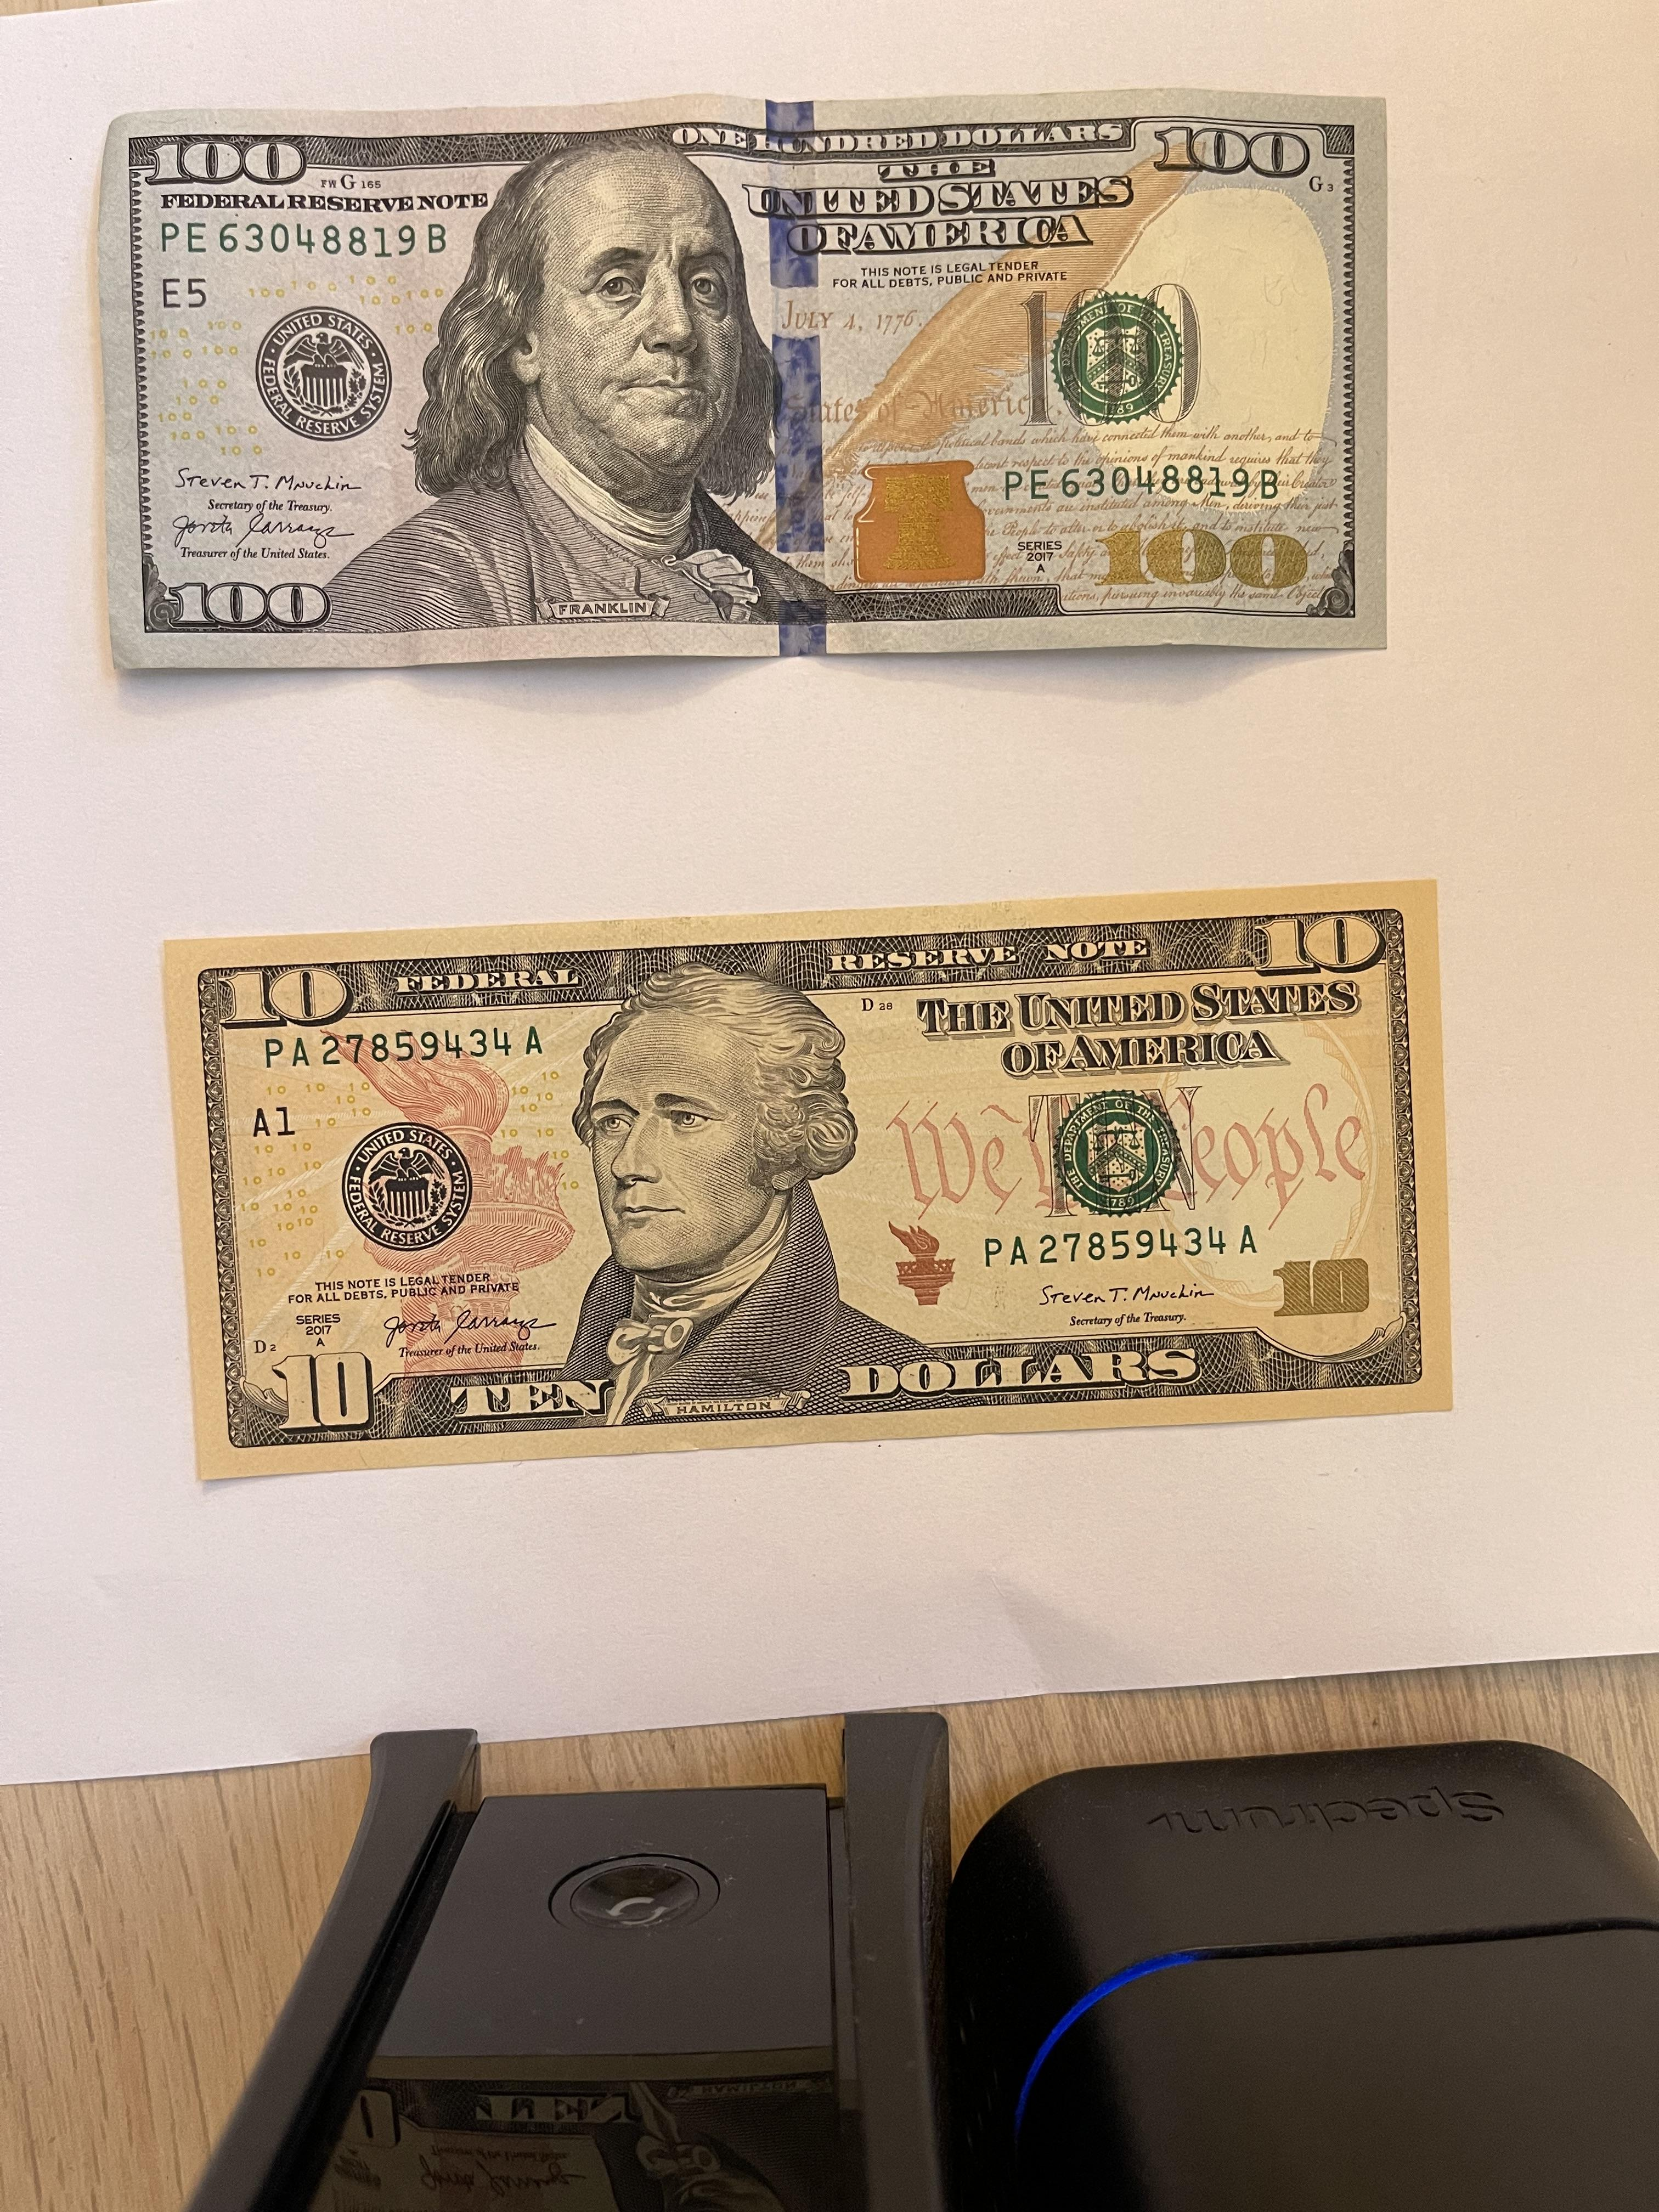HundredBill: (94, 87, 1392, 674)
TenBill: (157, 871, 1457, 1487)
